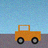vehicle: (15, 25, 40, 44)
